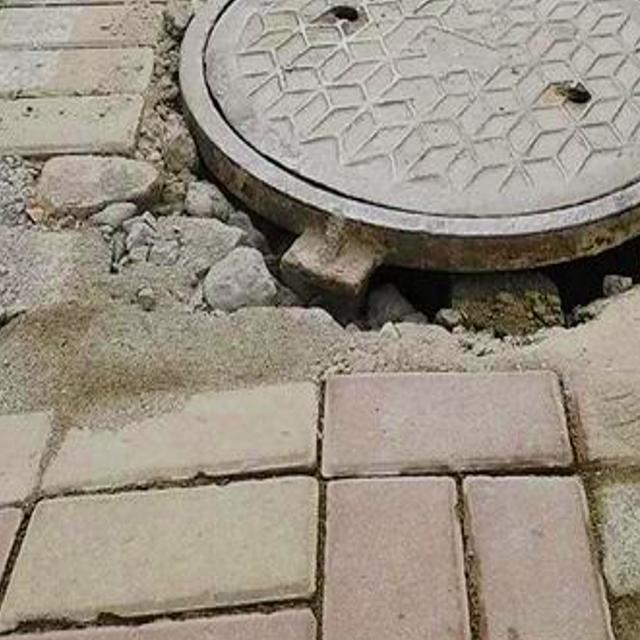circle: (77, 0, 640, 431)
